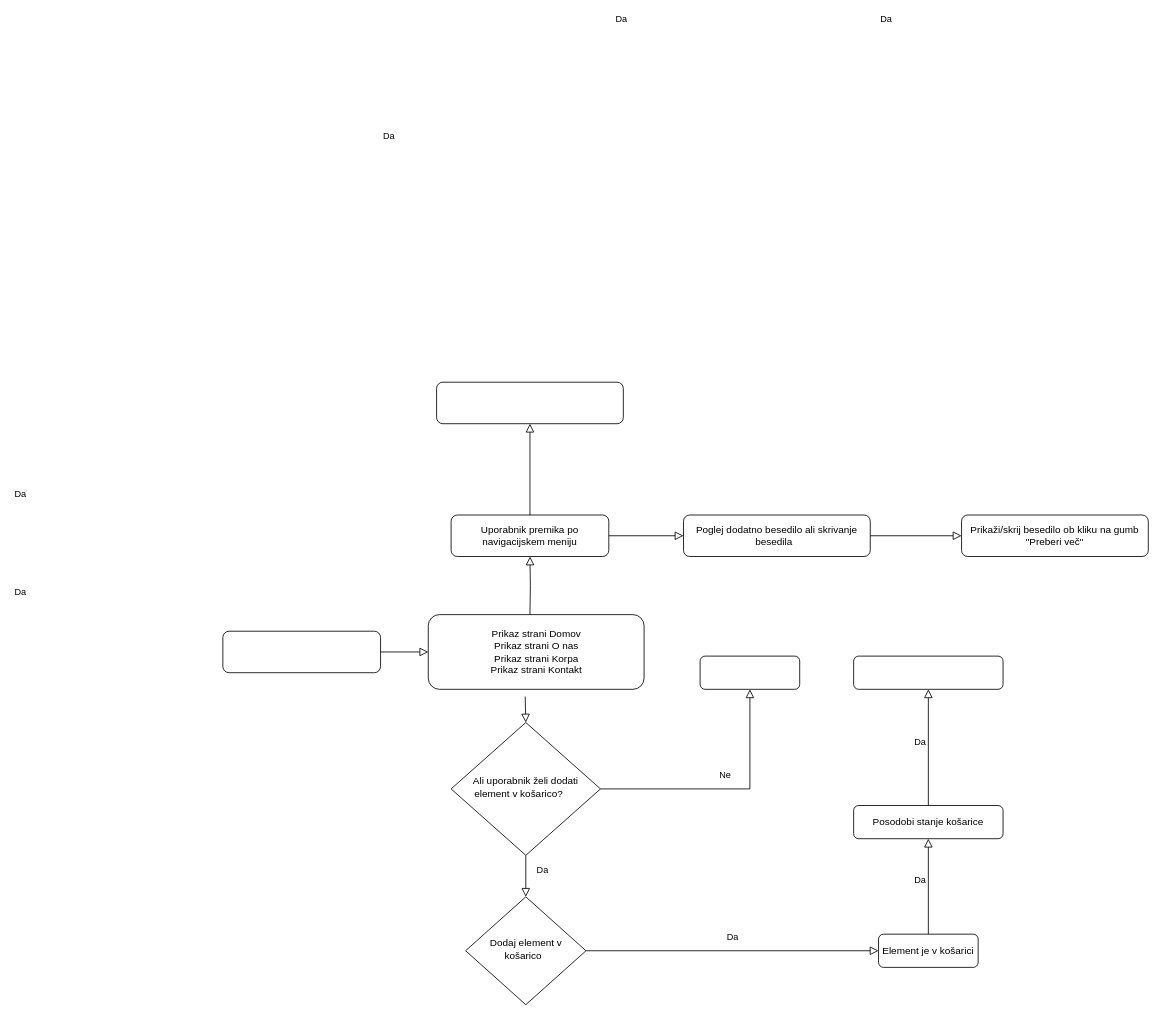
Some shapes in this 1163 by 1019 pixel diagram are drawn without their labels. Here are the shapes that lost their labels. From the top down, the centre of each, then its label:
(529,402): Animacija headerja pri skrolanju
(301,651): ZAGON SPLETNE APLIKACIJE
(749,672): Košarica je prazna
(928,672): Pokaži vsebino košarice Posodobi skupno ceno
